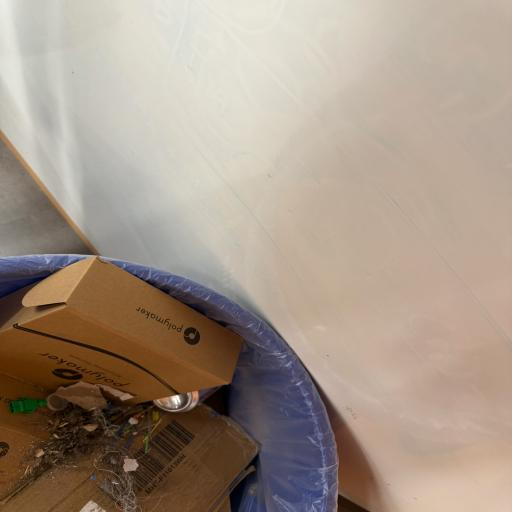Lego-Dude: (9, 397, 48, 414)
